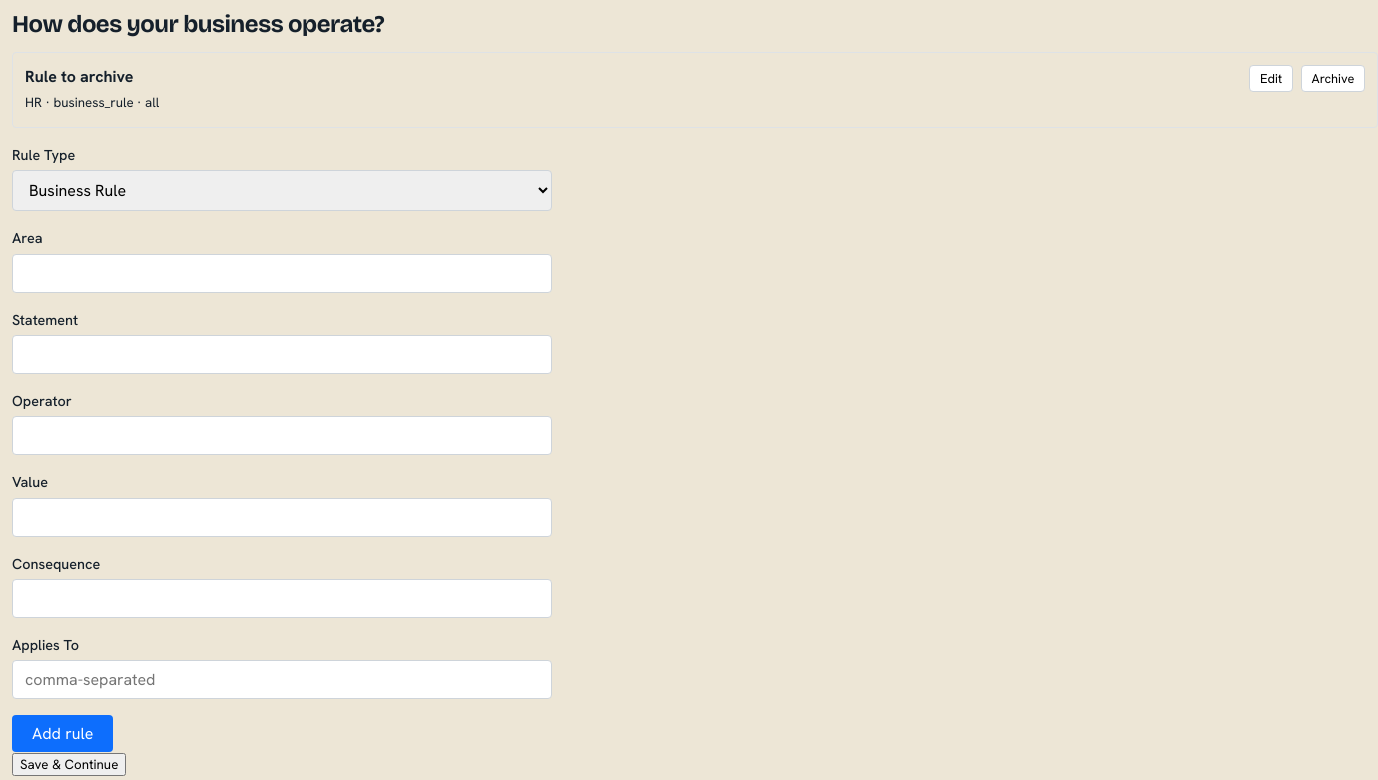
RulesStep › can archive a rule: click Archive → rule removed from list
Expected: the text "Rule to archive" is shown, [25,66,133,88]
Step 1. Click the button "Archive" → (1333, 79), box [1301,66,1365,92]
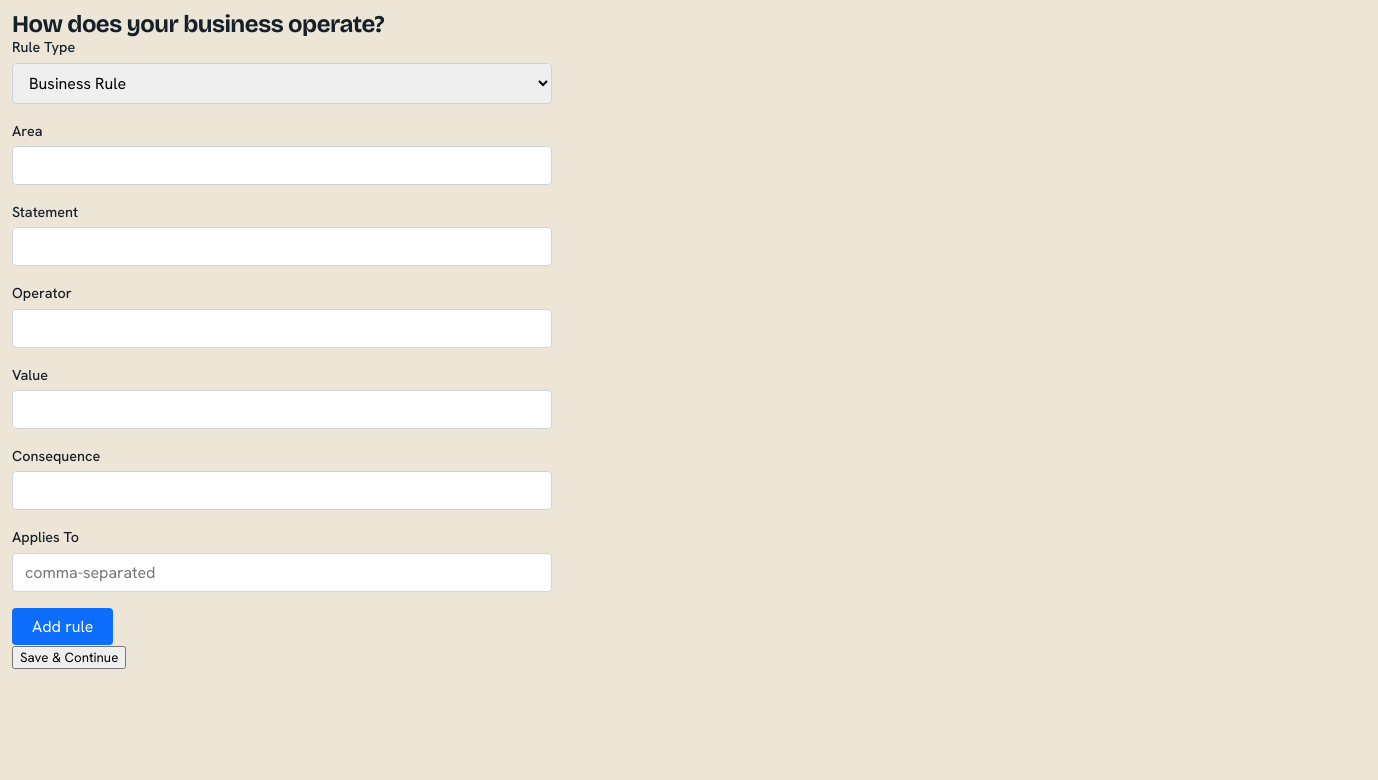
Expected: the text "Rule to archive" is gone
